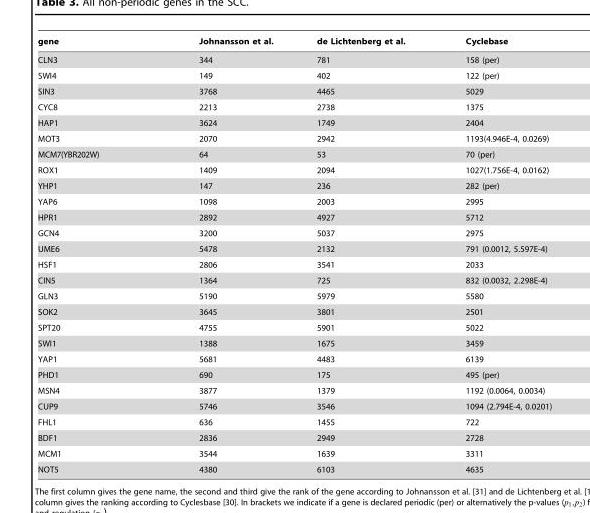table: (37, 36, 551, 473)
table column: (148, 36, 294, 473), (294, 36, 434, 473), (434, 36, 551, 473), (37, 36, 148, 473)
table column header: (37, 36, 551, 50)
table row: (37, 50, 551, 67), (37, 67, 551, 83), (37, 83, 551, 99), (37, 114, 551, 130), (37, 130, 551, 146), (37, 146, 551, 162), (37, 177, 551, 193), (37, 193, 551, 209), (37, 209, 551, 225), (37, 240, 551, 256), (37, 256, 551, 272), (37, 272, 551, 288), (37, 303, 551, 319), (37, 319, 551, 335), (37, 335, 551, 351), (37, 366, 551, 382), (37, 382, 551, 398), (37, 398, 551, 414), (37, 429, 551, 445), (37, 445, 551, 461), (37, 99, 551, 114), (37, 162, 551, 177), (37, 225, 551, 240), (37, 288, 551, 303), (37, 351, 551, 366), (37, 414, 551, 429), (37, 36, 551, 50), (37, 461, 551, 473)
